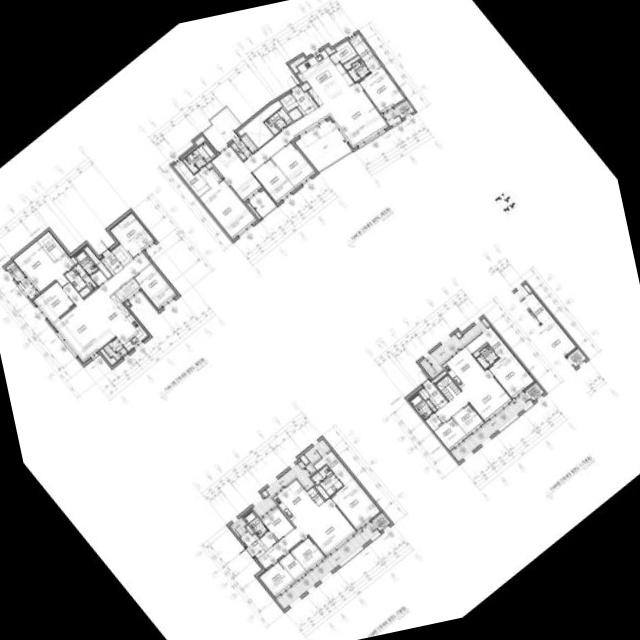background: (0, 0, 640, 640)
space_balconi: (277, 521, 379, 608), (451, 391, 532, 461), (419, 317, 489, 376), (252, 460, 316, 517), (295, 119, 352, 171), (203, 107, 241, 150), (249, 190, 276, 216), (231, 134, 257, 159), (304, 438, 330, 462), (103, 337, 127, 360), (18, 277, 38, 299), (230, 516, 247, 535), (383, 108, 401, 125)
space_bedroom: (198, 166, 256, 238), (13, 241, 75, 292), (331, 478, 381, 529), (488, 350, 534, 397), (359, 66, 404, 112), (110, 211, 154, 258), (272, 141, 315, 187), (134, 263, 177, 308), (253, 158, 295, 202), (33, 282, 74, 322), (259, 561, 295, 597), (291, 537, 325, 571), (261, 506, 294, 540), (434, 417, 467, 450), (453, 403, 484, 435)
space_dressroom: (313, 450, 354, 485), (173, 159, 210, 196), (466, 326, 510, 357), (349, 33, 381, 71), (37, 231, 65, 261)
space_front: (240, 531, 267, 558), (291, 87, 317, 115), (424, 382, 448, 409), (101, 250, 124, 274)
space_kitchen: (297, 49, 355, 105), (95, 293, 148, 350), (273, 479, 319, 526), (442, 347, 484, 389)
space_living_room: (211, 82, 388, 201), (53, 251, 151, 361), (257, 498, 356, 568), (435, 369, 512, 422)
space_other: (238, 100, 282, 148), (84, 245, 112, 278), (279, 552, 306, 580), (436, 374, 461, 401), (330, 40, 357, 63), (115, 278, 140, 302), (111, 243, 132, 265), (279, 93, 298, 111), (425, 413, 443, 430), (260, 531, 277, 548), (90, 269, 107, 286), (308, 487, 324, 505), (206, 161, 222, 177), (100, 348, 116, 364), (290, 56, 305, 73), (247, 202, 261, 219), (315, 484, 329, 499), (473, 342, 487, 357), (344, 56, 360, 69), (288, 107, 302, 120), (432, 370, 447, 382), (418, 387, 430, 400), (426, 399, 436, 411), (300, 454, 309, 464), (195, 136, 205, 145), (325, 46, 336, 54), (301, 82, 310, 91), (246, 525, 254, 534), (262, 489, 268, 496), (71, 256, 77, 263), (126, 301, 130, 305)
space_outdoor_room: (394, 99, 414, 118), (6, 261, 24, 281), (525, 382, 544, 400), (372, 512, 390, 531)
space_toilet: (65, 263, 96, 297), (183, 142, 216, 173), (311, 465, 343, 495), (264, 107, 292, 134), (244, 510, 268, 537), (75, 249, 98, 276), (410, 393, 433, 418), (477, 344, 498, 368), (348, 59, 370, 81)
